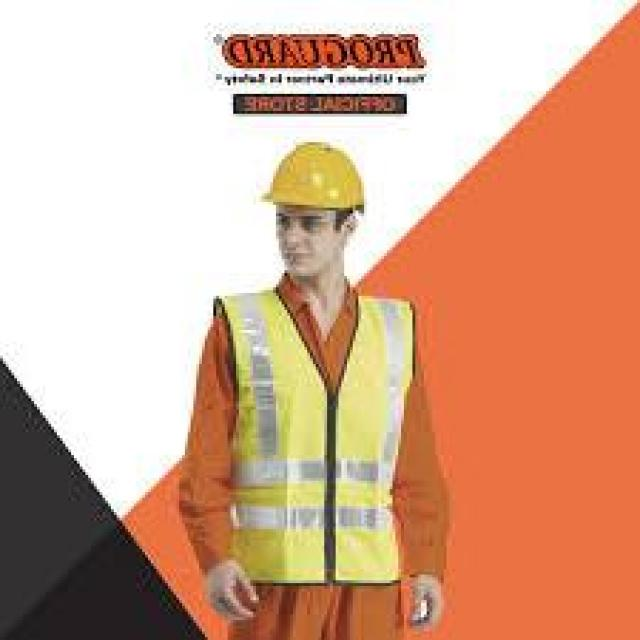Reflective-Jacket: (194, 276, 436, 609)
Safety-Helmet: (250, 131, 381, 230)
